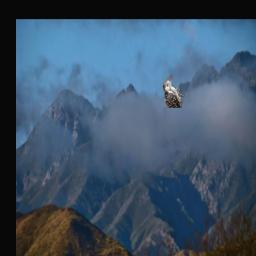Woodpecker: (164, 74, 185, 108)
